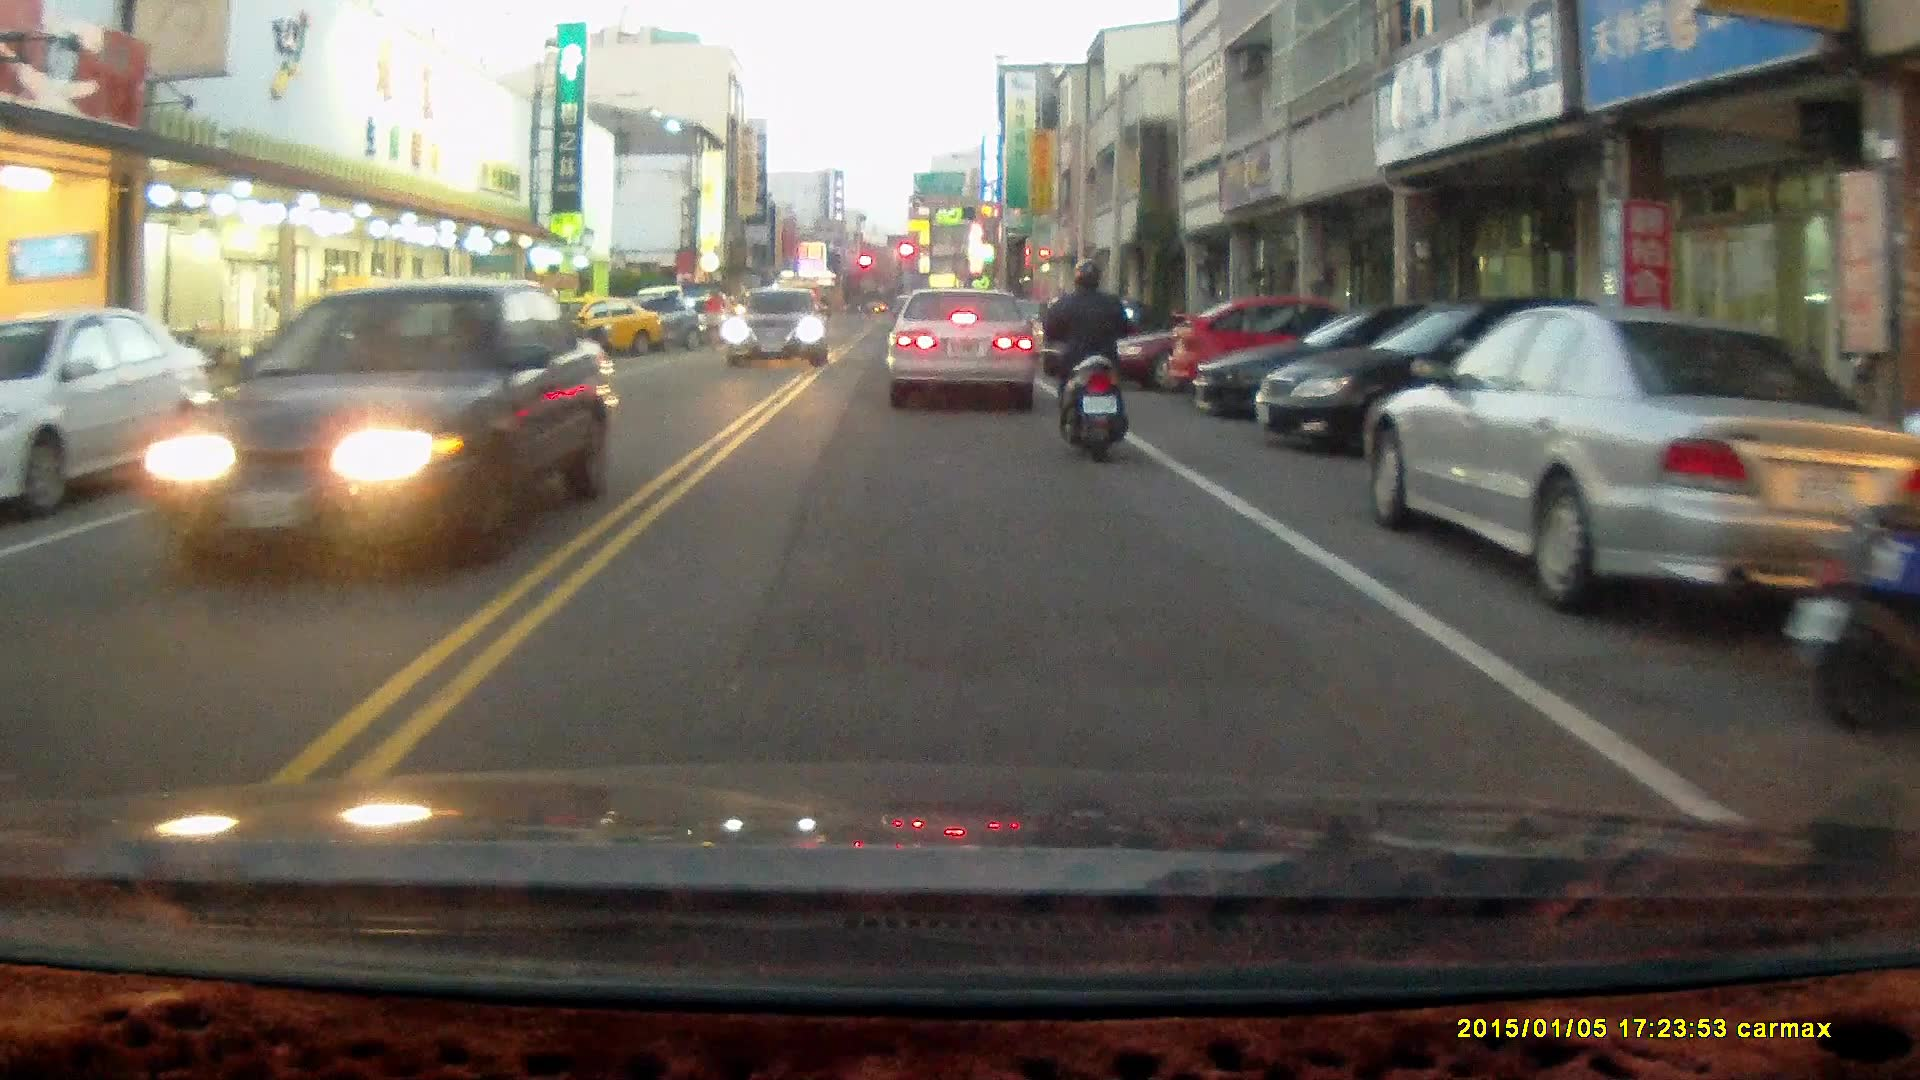pedestrian: (256, 290, 286, 364)
rider: (1039, 256, 1136, 464), (699, 284, 727, 352)
vehicle: (1368, 309, 1920, 622), (162, 279, 621, 575), (1252, 301, 1636, 450), (0, 311, 210, 521), (1188, 307, 1551, 427), (1162, 294, 1384, 401), (885, 287, 1039, 413), (524, 295, 660, 362), (724, 285, 830, 368)
